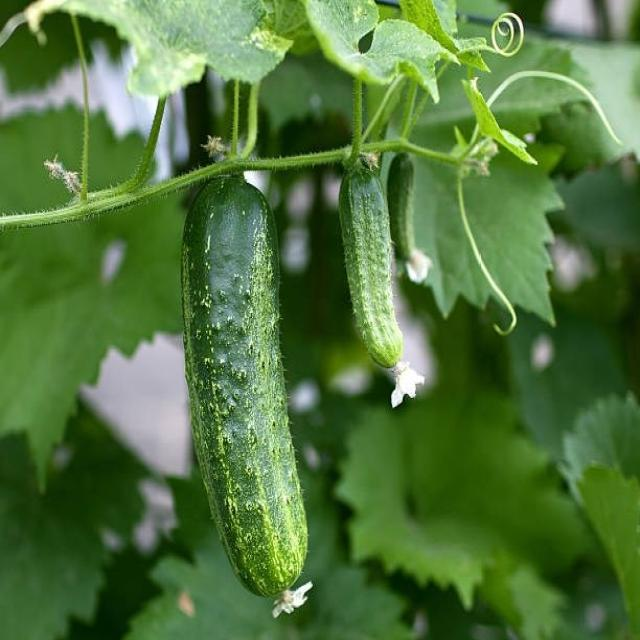cucumber: (180, 178, 310, 597), (339, 152, 406, 371)
